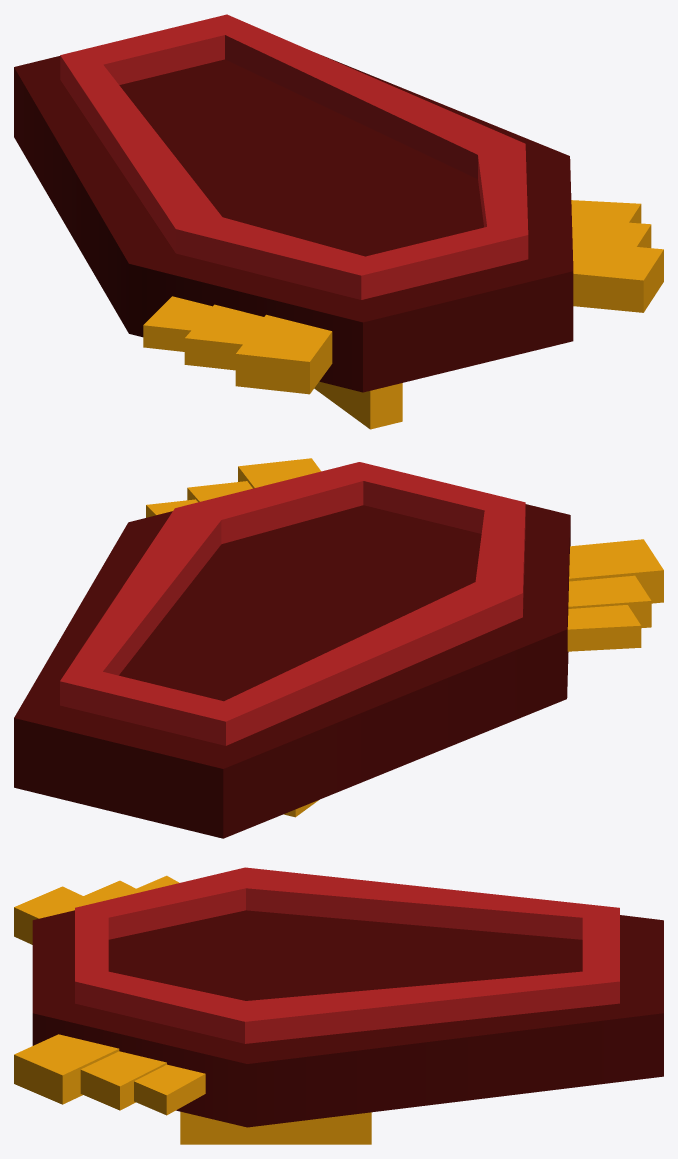
Rendered from Big Shield 01.FBX.
3 renders of one model, top to bottom at view 1: azimuth 30°, elevation 25°; view 2: azimuth 150°, elevation 25°; view 3: azimuth 270°, elevation 25°, orthographic. The views are drawn at different scales.
Visible parts, largest first — view 1: Big Shield 01; view 2: Big Shield 01; view 3: Big Shield 01.
Part boxes in pixels (x1,y1,x2,y2): Big Shield 01: [14, 14, 663, 429]; Big Shield 01: [14, 458, 663, 838]; Big Shield 01: [14, 867, 663, 1144].
Size of the model in its own units: 68.19 by 27.88 by 85.23.
